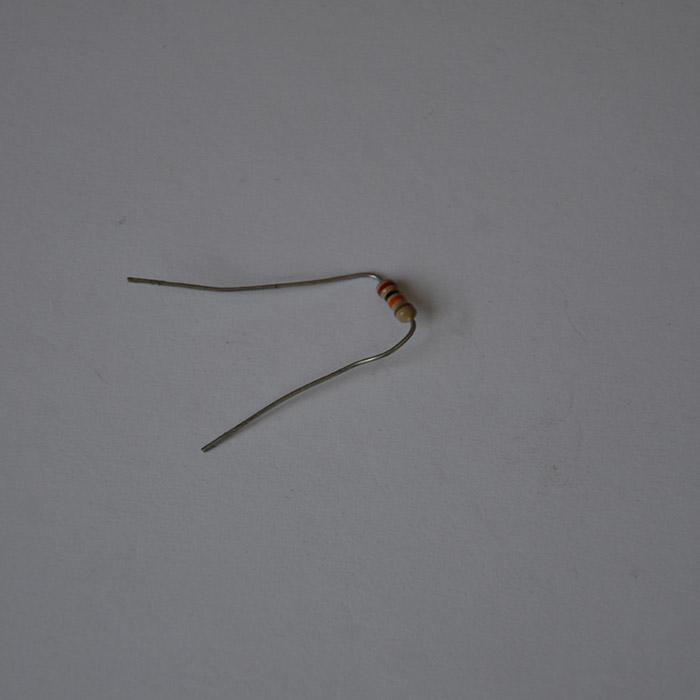resistor: (375, 277, 414, 322)
